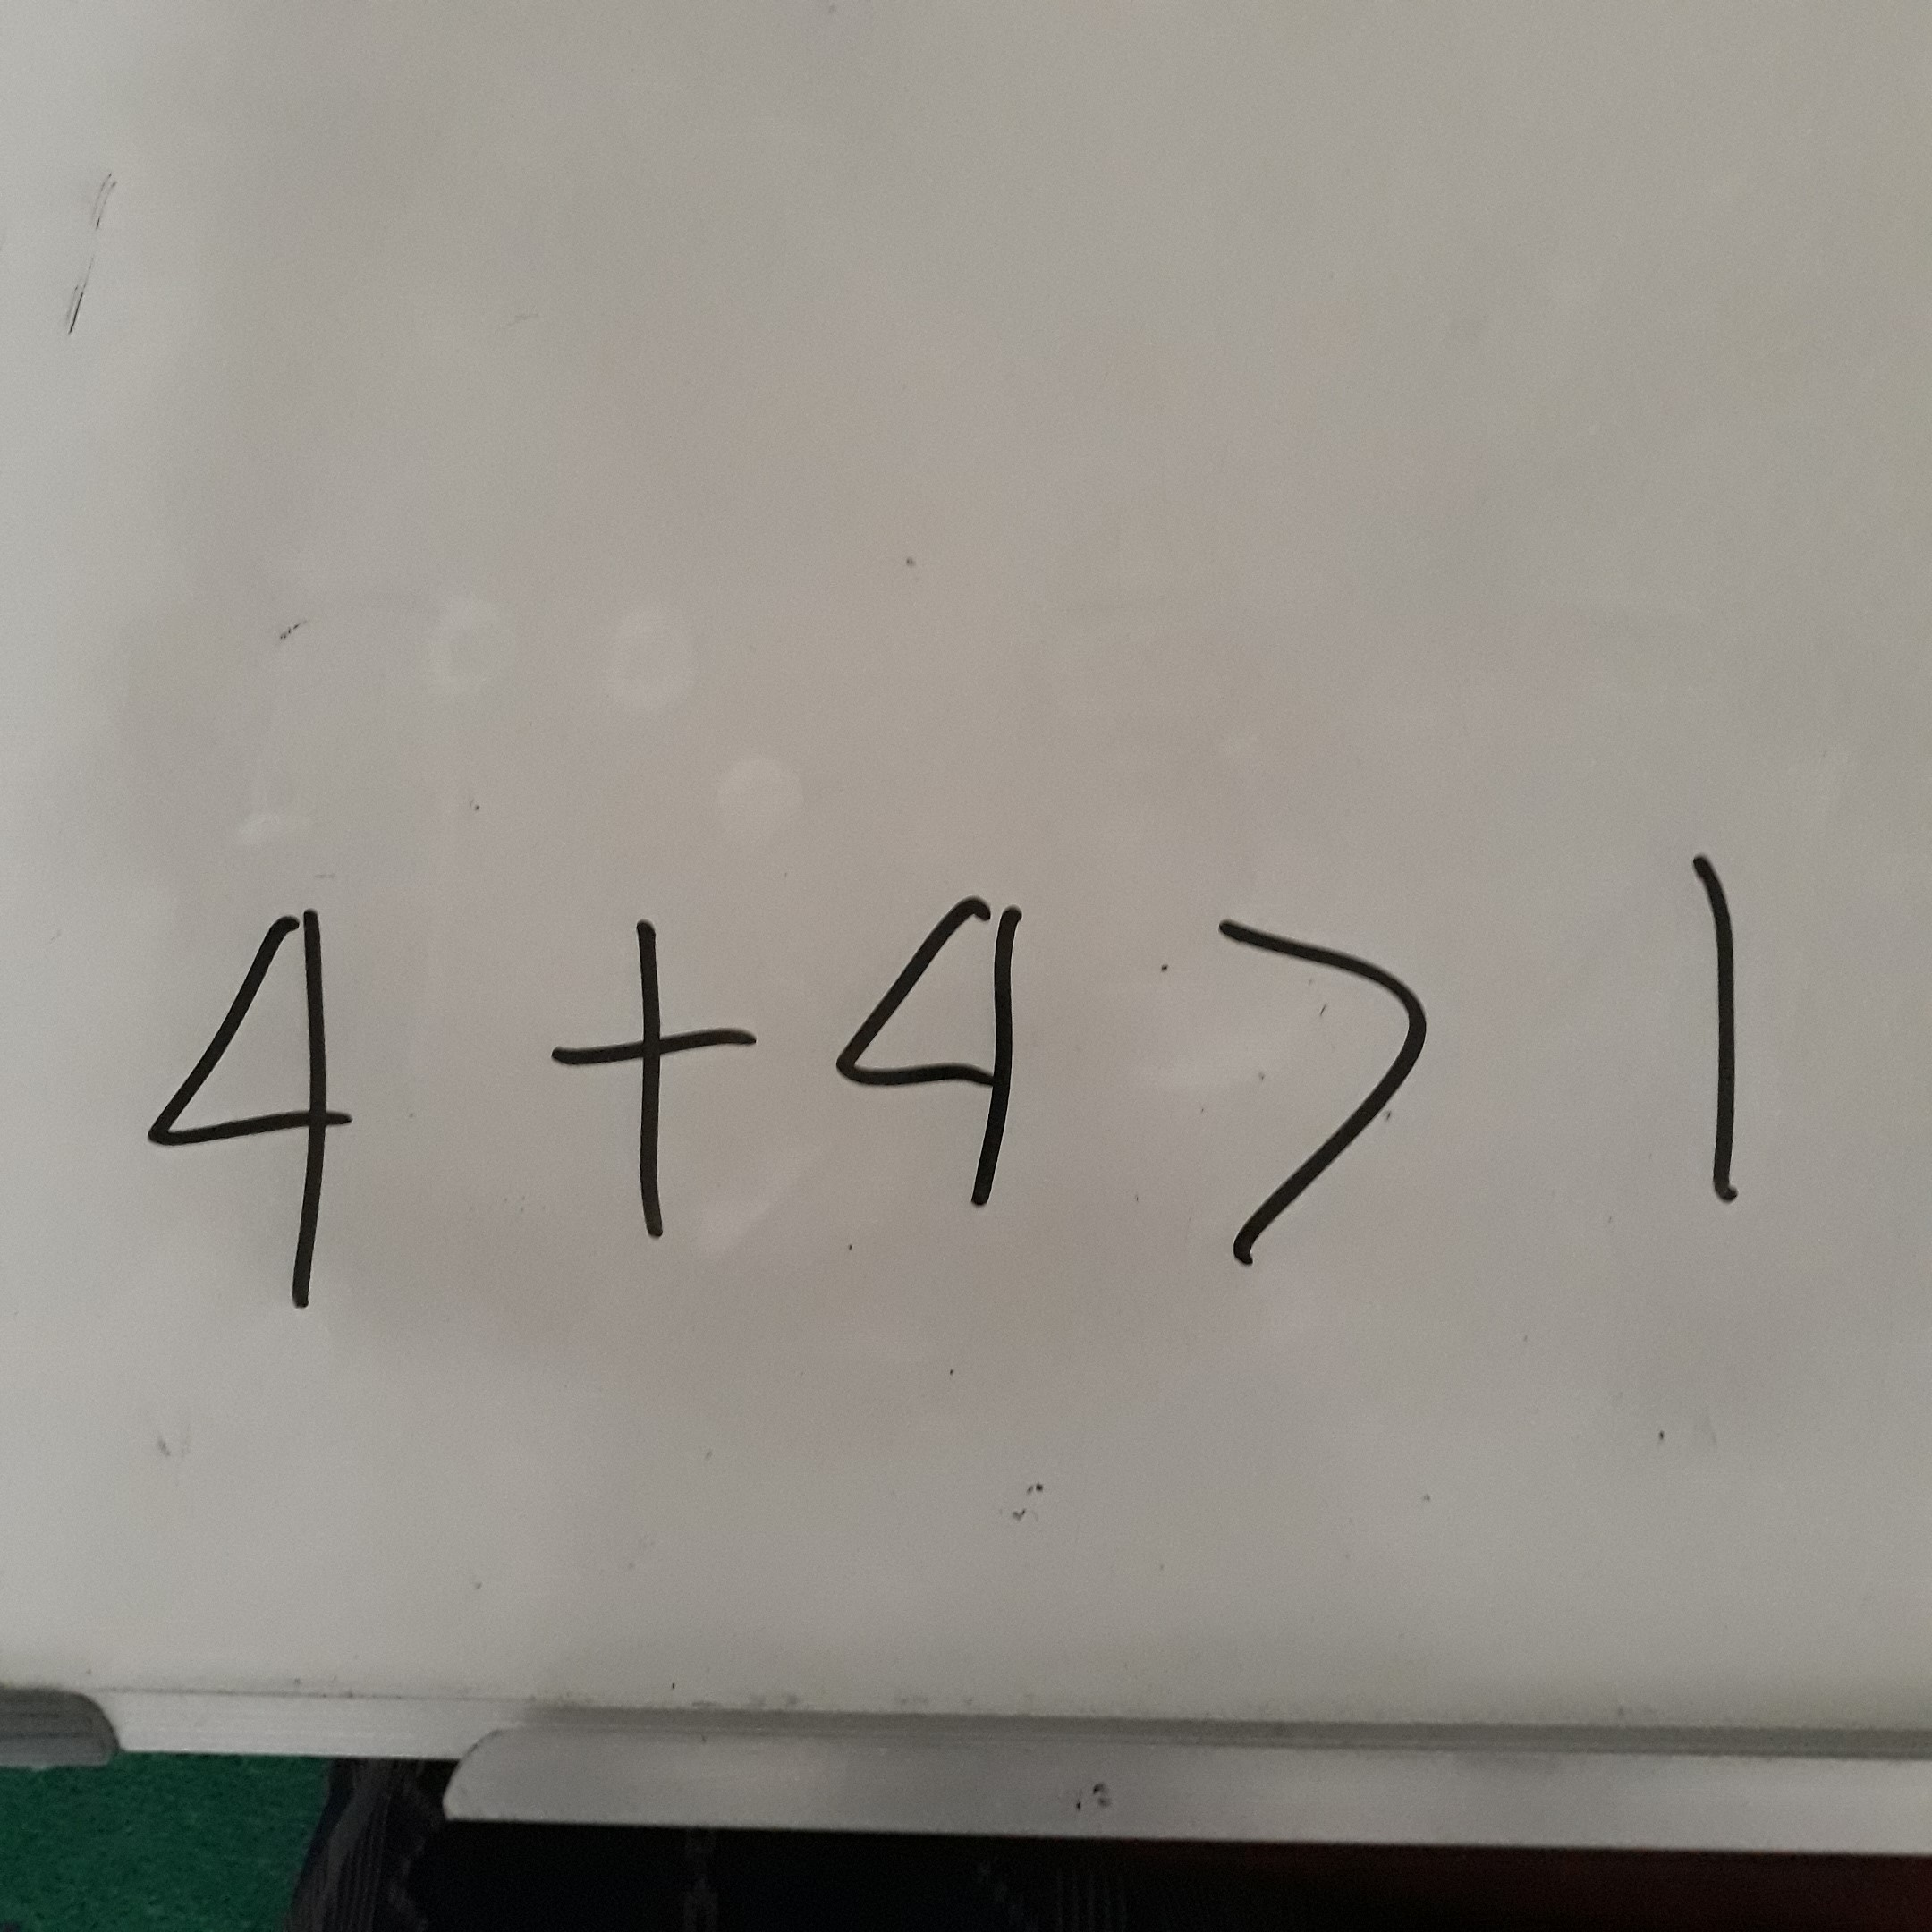morethan: (1188, 899, 1450, 1277)
num1: (1654, 823, 1776, 1227)
num4: (132, 890, 368, 1334), (822, 832, 1057, 1275)
sum: (536, 904, 760, 1257)
